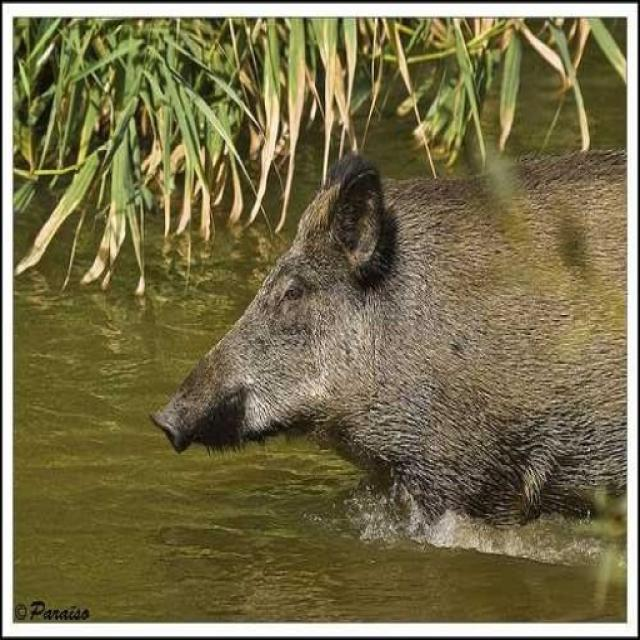pig: (193, 139, 640, 505)
